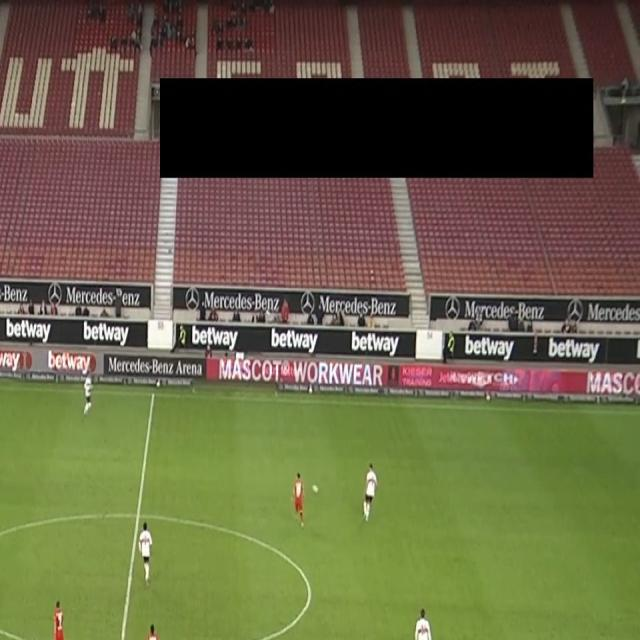ball: (312, 482, 319, 494)
